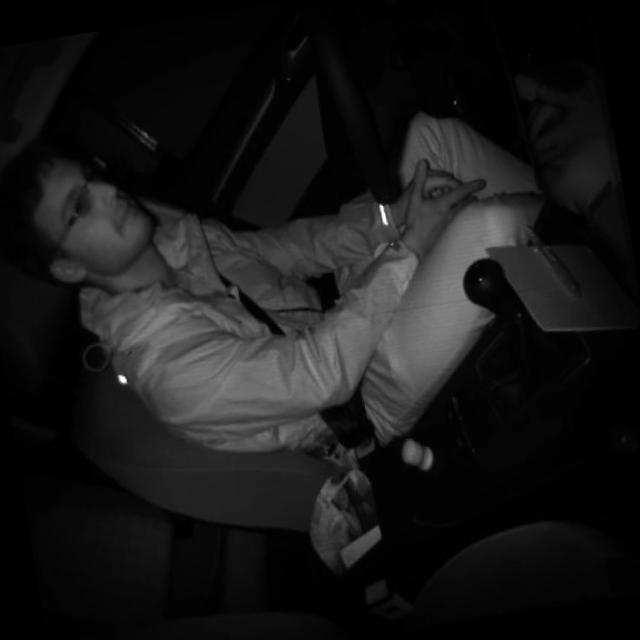pen: (522, 208, 587, 310)
